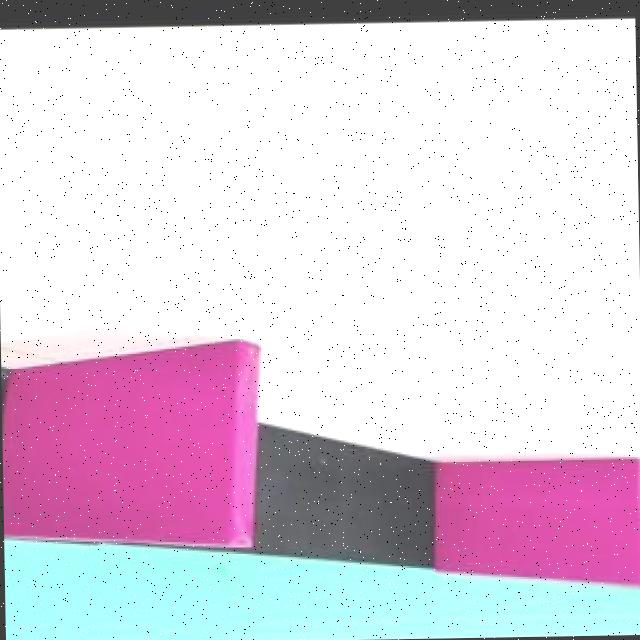xparking: (11, 346, 242, 534), (442, 460, 640, 566)
